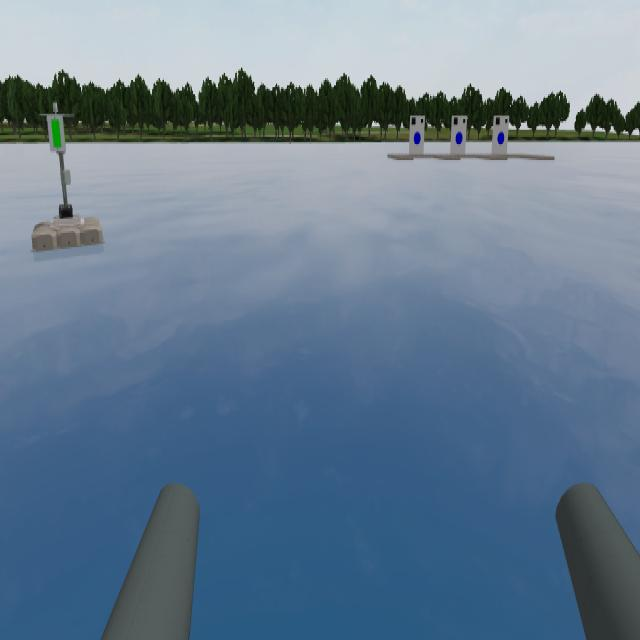green_pole: (40, 97, 112, 167)
